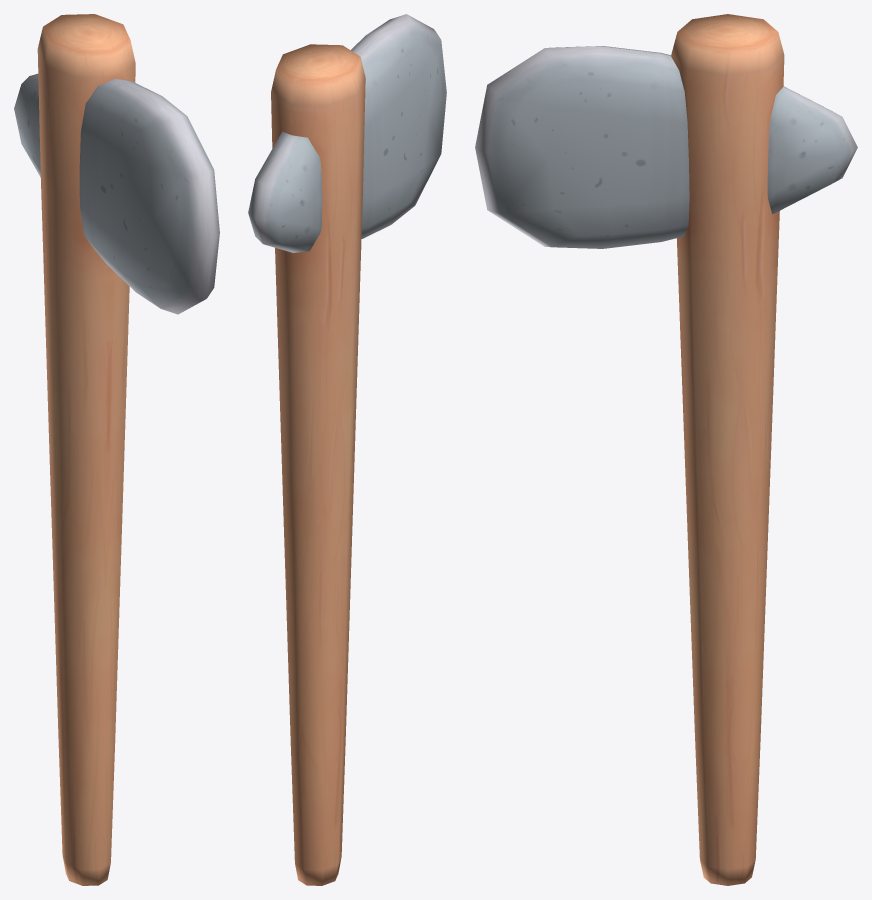
File: stylized_stone_axe.fbx
3 renders of one model, left to right at view 1: azimuth 30°, elevation 25°; view 2: azimuth 150°, elevation 25°; view 3: azimuth 270°, elevation 25°, orthographic. The views are drawn at different scales.
Visible parts, largest first — view 1: stone_axe; view 2: stone_axe; view 3: stone_axe.
Part boxes in pixels (<box>): stone_axe: <box>14,14,219,885</box>; stone_axe: <box>248,14,446,885</box>; stone_axe: <box>475,14,857,885</box>.
Bounding box in the file's own units: 11.47 × 113 × 46.12.
